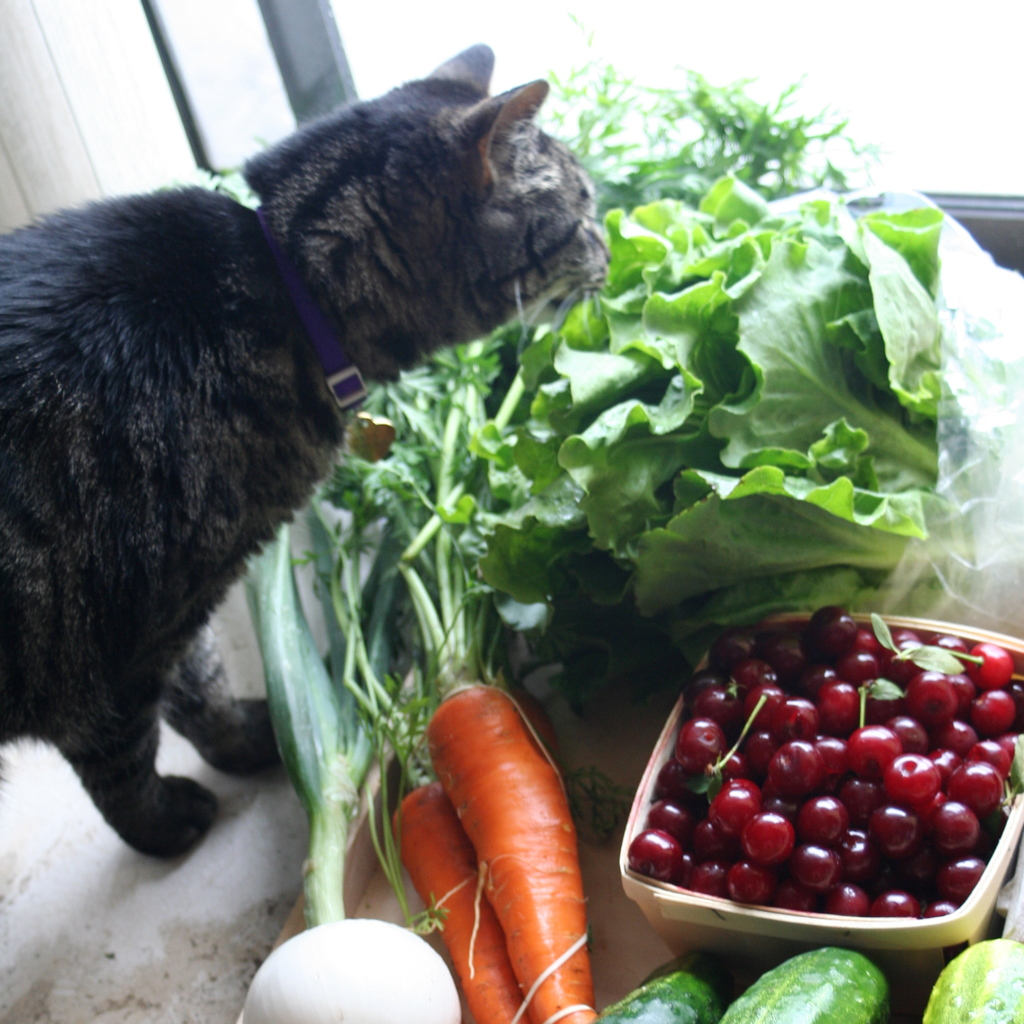Carrot: (388, 781, 528, 1023)
